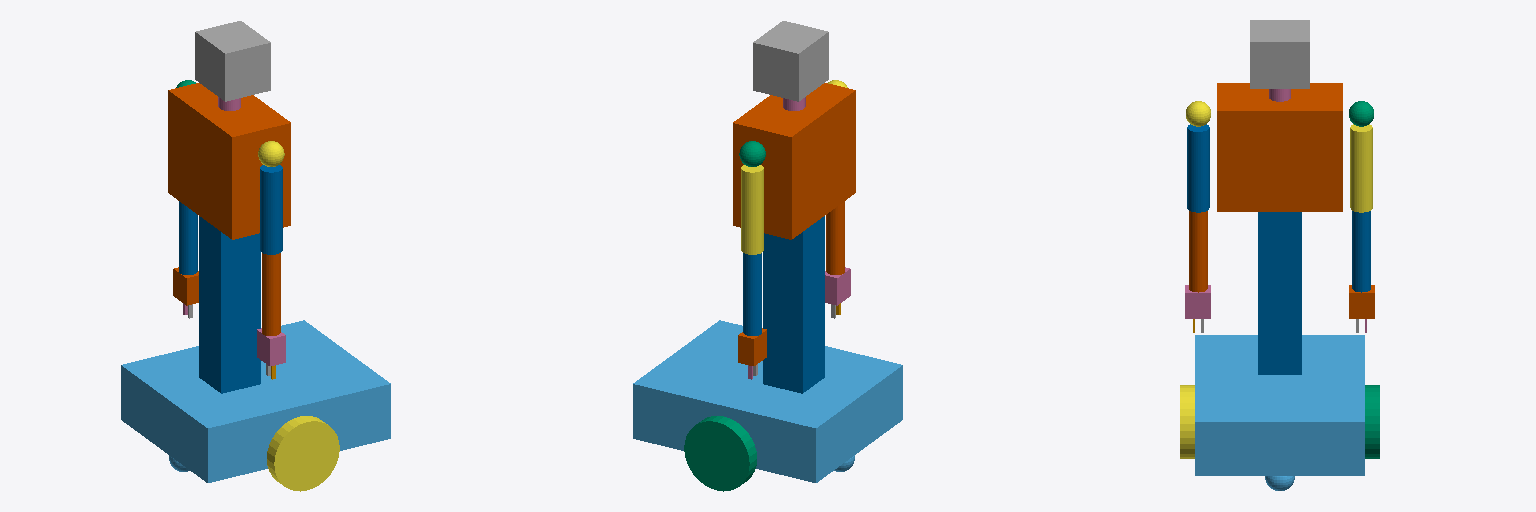
robot.urdf — semi_humanoid_test:
<?xml version="1.0"?>
<!-- A primitive-only semi-humanoid used by the botrail and catalog-builder
     tests: a differential base (two wheel joints, casters welded in), a
     lift column, a waist yaw, a pan-tilt head and two 4-DOF arms that each
     end in a 1-DOF finger (its twin follows as a mimic). No mesh assets, so
     it works straight from a checkout.

     `base_footprint` is the root: on the floor, midway between the drive
     wheels, which is where a differential base pivots. The wheel axles
     point opposite ways (+Y left, -Y right) the way vendor models often
     export them. Arms hang down at zero, elbows folding forward (+x); the
     flanges are the hands turned so +Z points at the fingers. -->
<robot name="semi_humanoid_test">

  <link name="base_footprint"/>
  <joint name="base_joint" type="fixed">
    <parent link="base_footprint"/>
    <child link="base_link"/>
    <origin xyz="0 0 0.10"/>
  </joint>
  <link name="base_link">
    <visual>
      <origin xyz="0 0 0.05"/>
      <geometry><box size="0.56 0.46 0.16"/></geometry>
    </visual>
    <collision>
      <origin xyz="0 0 0.05"/>
      <geometry><box size="0.56 0.46 0.16"/></geometry>
    </collision>
    <visual>
      <origin xyz="0.22 0 -0.06"/>
      <geometry><sphere radius="0.04"/></geometry>
    </visual>
    <collision>
      <origin xyz="0.22 0 -0.06"/>
      <geometry><sphere radius="0.04"/></geometry>
    </collision>
    <visual>
      <origin xyz="-0.22 0 -0.06"/>
      <geometry><sphere radius="0.04"/></geometry>
    </visual>
    <collision>
      <origin xyz="-0.22 0 -0.06"/>
      <geometry><sphere radius="0.04"/></geometry>
    </collision>
  </link>

  <!-- ===================================================== the wheels === -->
  <joint name="left_wheel_joint" type="continuous">
    <parent link="base_link"/>
    <child link="left_wheel"/>
    <origin xyz="0 0.25 0"/>
    <axis xyz="0 1 0"/>
  </joint>
  <link name="left_wheel">
    <visual>
      <origin xyz="0 0 0" rpy="1.5708 0 0"/>
      <geometry><cylinder radius="0.10" length="0.04"/></geometry>
    </visual>
    <collision>
      <origin xyz="0 0 0" rpy="1.5708 0 0"/>
      <geometry><cylinder radius="0.10" length="0.04"/></geometry>
    </collision>
  </link>
  <joint name="right_wheel_joint" type="continuous">
    <parent link="base_link"/>
    <child link="right_wheel"/>
    <origin xyz="0 -0.25 0"/>
    <axis xyz="0 -1 0"/>
  </joint>
  <link name="right_wheel">
    <visual>
      <origin xyz="0 0 0" rpy="1.5708 0 0"/>
      <geometry><cylinder radius="0.10" length="0.04"/></geometry>
    </visual>
    <collision>
      <origin xyz="0 0 0" rpy="1.5708 0 0"/>
      <geometry><cylinder radius="0.10" length="0.04"/></geometry>
    </collision>
  </link>

  <!-- ====================================================== the torso === -->
  <joint name="lift_joint" type="prismatic">
    <parent link="base_link"/>
    <child link="column"/>
    <origin xyz="-0.08 0 0.13"/>
    <axis xyz="0 0 1"/>
    <limit lower="0.0" upper="0.40" effort="400" velocity="0.15"/>
  </joint>
  <link name="column">
    <visual>
      <origin xyz="0 0 0.25"/>
      <geometry><box size="0.12 0.12 0.50"/></geometry>
    </visual>
    <collision>
      <origin xyz="0 0 0.25"/>
      <geometry><box size="0.12 0.12 0.50"/></geometry>
    </collision>
  </link>
  <joint name="waist_yaw_joint" type="revolute">
    <parent link="column"/>
    <child link="chest"/>
    <origin xyz="0 0 0.50"/>
    <axis xyz="0 0 1"/>
    <limit lower="-1.6" upper="1.6" effort="60" velocity="1.5"/>
  </joint>
  <link name="chest">
    <visual>
      <origin xyz="0 0 0.15"/>
      <geometry><box size="0.18 0.34 0.30"/></geometry>
    </visual>
    <collision>
      <origin xyz="0 0 0.15"/>
      <geometry><box size="0.18 0.34 0.30"/></geometry>
    </collision>
  </link>

  <!-- ======================================================= the head === -->
  <joint name="head_pan_joint" type="revolute">
    <parent link="chest"/>
    <child link="neck"/>
    <origin xyz="0 0 0.30"/>
    <axis xyz="0 0 1"/>
    <limit lower="-1.3" upper="1.3" effort="5" velocity="2.0"/>
  </joint>
  <link name="neck">
    <visual>
      <origin xyz="0 0 0.03"/>
      <geometry><cylinder radius="0.03" length="0.06"/></geometry>
    </visual>
    <collision>
      <origin xyz="0 0 0.03"/>
      <geometry><cylinder radius="0.03" length="0.06"/></geometry>
    </collision>
  </link>
  <joint name="head_tilt_joint" type="revolute">
    <parent link="neck"/>
    <child link="head"/>
    <origin xyz="0 0 0.06"/>
    <axis xyz="0 1 0"/>
    <limit lower="-0.6" upper="0.9" effort="5" velocity="2.0"/>
  </joint>
  <link name="head">
    <visual>
      <origin xyz="0.01 0 0.07"/>
      <geometry><box size="0.14 0.16 0.14"/></geometry>
    </visual>
    <collision>
      <origin xyz="0.01 0 0.07"/>
      <geometry><box size="0.14 0.16 0.14"/></geometry>
    </collision>
  </link>
  <joint name="head_camera_mount" type="fixed">
    <parent link="head"/>
    <child link="head_camera"/>
    <origin xyz="0.08 0 0.07"/>
  </joint>
  <link name="head_camera"/>

  <!-- ==================================================== left arm === -->
  <joint name="left_mount" type="fixed">
    <parent link="chest"/>
    <child link="left_base"/>
    <origin xyz="0 0.17 0.25"/>
  </joint>
  <link name="left_base"/>
  <joint name="left_shoulder_pitch" type="revolute">
    <parent link="left_base"/>
    <child link="left_shoulder"/>
    <origin xyz="0 0.05 0"/>
    <axis xyz="0 1 0"/>
    <limit lower="-3.0" upper="3.0" effort="20" velocity="2.0"/>
  </joint>
  <link name="left_shoulder">
    <visual>
      <origin xyz="0 0 0"/>
      <geometry><sphere radius="0.035"/></geometry>
    </visual>
    <collision>
      <origin xyz="0 0 0"/>
      <geometry><sphere radius="0.035"/></geometry>
    </collision>
  </link>
  <joint name="left_shoulder_roll" type="revolute">
    <parent link="left_shoulder"/>
    <child link="left_upper"/>
    <origin xyz="0 0 0"/>
    <axis xyz="1 0 0"/>
    <limit lower="-0.3" upper="2.6" effort="20" velocity="2.0"/>
  </joint>
  <link name="left_upper">
    <visual>
      <origin xyz="0 0 -0.16"/>
      <geometry><cylinder radius="0.03" length="0.24"/></geometry>
    </visual>
    <collision>
      <origin xyz="0 0 -0.16"/>
      <geometry><cylinder radius="0.03" length="0.24"/></geometry>
    </collision>
  </link>
  <joint name="left_elbow" type="revolute">
    <parent link="left_upper"/>
    <child link="left_fore"/>
    <origin xyz="0 0 -0.28"/>
    <axis xyz="0 1 0"/>
    <limit lower="-2.5" upper="2.5" effort="20" velocity="2.0"/>
  </joint>
  <link name="left_fore">
    <visual>
      <origin xyz="0 0 -0.12"/>
      <geometry><cylinder radius="0.025" length="0.24"/></geometry>
    </visual>
    <collision>
      <origin xyz="0 0 -0.12"/>
      <geometry><cylinder radius="0.025" length="0.24"/></geometry>
    </collision>
  </link>
  <joint name="left_wrist" type="revolute">
    <parent link="left_fore"/>
    <child link="left_hand"/>
    <origin xyz="0 0 -0.24"/>
    <axis xyz="0 1 0"/>
    <limit lower="-2.0" upper="2.0" effort="10" velocity="3.0"/>
  </joint>
  <link name="left_hand">
    <visual>
      <origin xyz="0 0 -0.04"/>
      <geometry><box size="0.05 0.07 0.08"/></geometry>
    </visual>
    <collision>
      <origin xyz="0 0 -0.04"/>
      <geometry><box size="0.05 0.07 0.08"/></geometry>
    </collision>
  </link>
  <joint name="left_finger" type="prismatic">
    <parent link="left_hand"/>
    <child link="left_finger_a"/>
    <origin xyz="0 0.012 -0.08"/>
    <axis xyz="0 1 0"/>
    <limit lower="0.0" upper="0.03" effort="10" velocity="0.1"/>
  </joint>
  <link name="left_finger_a">
    <visual>
      <origin xyz="0 0 -0.025"/>
      <geometry><box size="0.012 0.008 0.05"/></geometry>
    </visual>
    <collision>
      <origin xyz="0 0 -0.025"/>
      <geometry><box size="0.012 0.008 0.05"/></geometry>
    </collision>
  </link>
  <joint name="left_finger_b_joint" type="prismatic">
    <parent link="left_hand"/>
    <child link="left_finger_b"/>
    <origin xyz="0 -0.012 -0.08"/>
    <axis xyz="0 -1 0"/>
    <limit lower="0.0" upper="0.03" effort="10" velocity="0.1"/>
    <mimic joint="left_finger" multiplier="1.0"/>
  </joint>
  <link name="left_finger_b">
    <visual>
      <origin xyz="0 0 -0.025"/>
      <geometry><box size="0.012 0.008 0.05"/></geometry>
    </visual>
    <collision>
      <origin xyz="0 0 -0.025"/>
      <geometry><box size="0.012 0.008 0.05"/></geometry>
    </collision>
  </link>
  <joint name="left_flange_mount" type="fixed">
    <parent link="left_hand"/>
    <child link="left_flange"/>
    <origin xyz="0 0 -0.08" rpy="3.14159265 0 0"/>
  </joint>
  <link name="left_flange"/>
  <joint name="left_tcp_mount" type="fixed">
    <parent link="left_hand"/>
    <child link="left_tcp"/>
    <origin xyz="0 0 -0.13" rpy="3.14159265 0 0"/>
  </joint>
  <link name="left_tcp"/>

  <!-- ==================================================== right arm === -->
  <joint name="right_mount" type="fixed">
    <parent link="chest"/>
    <child link="right_base"/>
    <origin xyz="0 -0.17 0.25"/>
  </joint>
  <link name="right_base"/>
  <joint name="right_shoulder_pitch" type="revolute">
    <parent link="right_base"/>
    <child link="right_shoulder"/>
    <origin xyz="0 -0.05 0"/>
    <axis xyz="0 1 0"/>
    <limit lower="-3.0" upper="3.0" effort="20" velocity="2.0"/>
  </joint>
  <link name="right_shoulder">
    <visual>
      <origin xyz="0 0 0"/>
      <geometry><sphere radius="0.035"/></geometry>
    </visual>
    <collision>
      <origin xyz="0 0 0"/>
      <geometry><sphere radius="0.035"/></geometry>
    </collision>
  </link>
  <joint name="right_shoulder_roll" type="revolute">
    <parent link="right_shoulder"/>
    <child link="right_upper"/>
    <origin xyz="0 0 0"/>
    <axis xyz="1 0 0"/>
    <limit lower="-2.6" upper="0.3" effort="20" velocity="2.0"/>
  </joint>
  <link name="right_upper">
    <visual>
      <origin xyz="0 0 -0.16"/>
      <geometry><cylinder radius="0.03" length="0.24"/></geometry>
    </visual>
    <collision>
      <origin xyz="0 0 -0.16"/>
      <geometry><cylinder radius="0.03" length="0.24"/></geometry>
    </collision>
  </link>
  <joint name="right_elbow" type="revolute">
    <parent link="right_upper"/>
    <child link="right_fore"/>
    <origin xyz="0 0 -0.28"/>
    <axis xyz="0 1 0"/>
    <limit lower="-2.5" upper="2.5" effort="20" velocity="2.0"/>
  </joint>
  <link name="right_fore">
    <visual>
      <origin xyz="0 0 -0.12"/>
      <geometry><cylinder radius="0.025" length="0.24"/></geometry>
    </visual>
    <collision>
      <origin xyz="0 0 -0.12"/>
      <geometry><cylinder radius="0.025" length="0.24"/></geometry>
    </collision>
  </link>
  <joint name="right_wrist" type="revolute">
    <parent link="right_fore"/>
    <child link="right_hand"/>
    <origin xyz="0 0 -0.24"/>
    <axis xyz="0 1 0"/>
    <limit lower="-2.0" upper="2.0" effort="10" velocity="3.0"/>
  </joint>
  <link name="right_hand">
    <visual>
      <origin xyz="0 0 -0.04"/>
      <geometry><box size="0.05 0.07 0.08"/></geometry>
    </visual>
    <collision>
      <origin xyz="0 0 -0.04"/>
      <geometry><box size="0.05 0.07 0.08"/></geometry>
    </collision>
  </link>
  <joint name="right_finger" type="prismatic">
    <parent link="right_hand"/>
    <child link="right_finger_a"/>
    <origin xyz="0 0.012 -0.08"/>
    <axis xyz="0 1 0"/>
    <limit lower="0.0" upper="0.03" effort="10" velocity="0.1"/>
  </joint>
  <link name="right_finger_a">
    <visual>
      <origin xyz="0 0 -0.025"/>
      <geometry><box size="0.012 0.008 0.05"/></geometry>
    </visual>
    <collision>
      <origin xyz="0 0 -0.025"/>
      <geometry><box size="0.012 0.008 0.05"/></geometry>
    </collision>
  </link>
  <joint name="right_finger_b_joint" type="prismatic">
    <parent link="right_hand"/>
    <child link="right_finger_b"/>
    <origin xyz="0 -0.012 -0.08"/>
    <axis xyz="0 -1 0"/>
    <limit lower="0.0" upper="0.03" effort="10" velocity="0.1"/>
    <mimic joint="right_finger" multiplier="1.0"/>
  </joint>
  <link name="right_finger_b">
    <visual>
      <origin xyz="0 0 -0.025"/>
      <geometry><box size="0.012 0.008 0.05"/></geometry>
    </visual>
    <collision>
      <origin xyz="0 0 -0.025"/>
      <geometry><box size="0.012 0.008 0.05"/></geometry>
    </collision>
  </link>
  <joint name="right_flange_mount" type="fixed">
    <parent link="right_hand"/>
    <child link="right_flange"/>
    <origin xyz="0 0 -0.08" rpy="3.14159265 0 0"/>
  </joint>
  <link name="right_flange"/>
  <joint name="right_tcp_mount" type="fixed">
    <parent link="right_hand"/>
    <child link="right_tcp"/>
    <origin xyz="0 0 -0.13" rpy="3.14159265 0 0"/>
  </joint>
  <link name="right_tcp"/>

</robot>

--- What the picture shows (computed from the rendered views, not written in the file) ---
The picture shows the robot from 3 angles, left to right: view 1: azimuth 30°, elevation 25°; view 2: azimuth 150°, elevation 25°; view 3: azimuth 270°, elevation 25°; orthographic projection.
Robot: semi_humanoid_test — 27 links, 26 joints (11 revolute, 2 continuous, 5 prismatic, 8 fixed); root link base_footprint; default pose: every joint at zero.
Links seen in each view (by area): view 1: base_link, chest, column, head, right_wheel, right_upper, right_fore, left_fore, right_hand, left_hand, right_shoulder; view 2: base_link, chest, column, head, left_wheel, left_upper, left_fore, right_fore, left_hand, right_hand, left_shoulder; view 3: base_link, chest, column, head, left_upper, right_upper, left_fore, right_fore, left_wheel, right_wheel, left_hand, right_hand.
Boxes of the visible links, bbox=[...] form: base_link: bbox=[121, 320, 390, 482]; chest: bbox=[168, 83, 290, 239]; column: bbox=[199, 216, 260, 393]; head: bbox=[195, 21, 270, 101]; right_wheel: bbox=[267, 416, 339, 491]; right_upper: bbox=[260, 165, 282, 254]; right_fore: bbox=[262, 253, 280, 335]; left_fore: bbox=[179, 201, 197, 274]; right_hand: bbox=[257, 328, 285, 365]; left_hand: bbox=[173, 267, 198, 305]; right_shoulder: bbox=[258, 141, 284, 166]; base_link: bbox=[633, 320, 902, 482]; chest: bbox=[733, 83, 855, 239]; column: bbox=[763, 216, 824, 393]; head: bbox=[753, 21, 828, 101]; left_wheel: bbox=[684, 416, 756, 491]; left_upper: bbox=[741, 165, 763, 254]; left_fore: bbox=[743, 253, 761, 335]; right_fore: bbox=[826, 201, 844, 274]; left_hand: bbox=[738, 328, 766, 365]; right_hand: bbox=[825, 267, 850, 305]; left_shoulder: bbox=[739, 141, 765, 166]; base_link: bbox=[1195, 335, 1364, 490]; chest: bbox=[1217, 83, 1342, 211]; column: bbox=[1258, 212, 1301, 374]; head: bbox=[1250, 20, 1309, 88]; left_upper: bbox=[1350, 124, 1372, 212]; right_upper: bbox=[1187, 124, 1209, 212]; left_fore: bbox=[1352, 211, 1370, 292]; right_fore: bbox=[1189, 211, 1207, 292]; left_wheel: bbox=[1365, 385, 1379, 458]; right_wheel: bbox=[1180, 385, 1194, 458]; left_hand: bbox=[1349, 285, 1374, 318]; right_hand: bbox=[1185, 285, 1210, 318].
Bounding box of the posed robot: 0.56 × 0.54 × 1.23 m (x, y, z).
Geometry: primitives only (box / cylinder / sphere), no mesh files.
